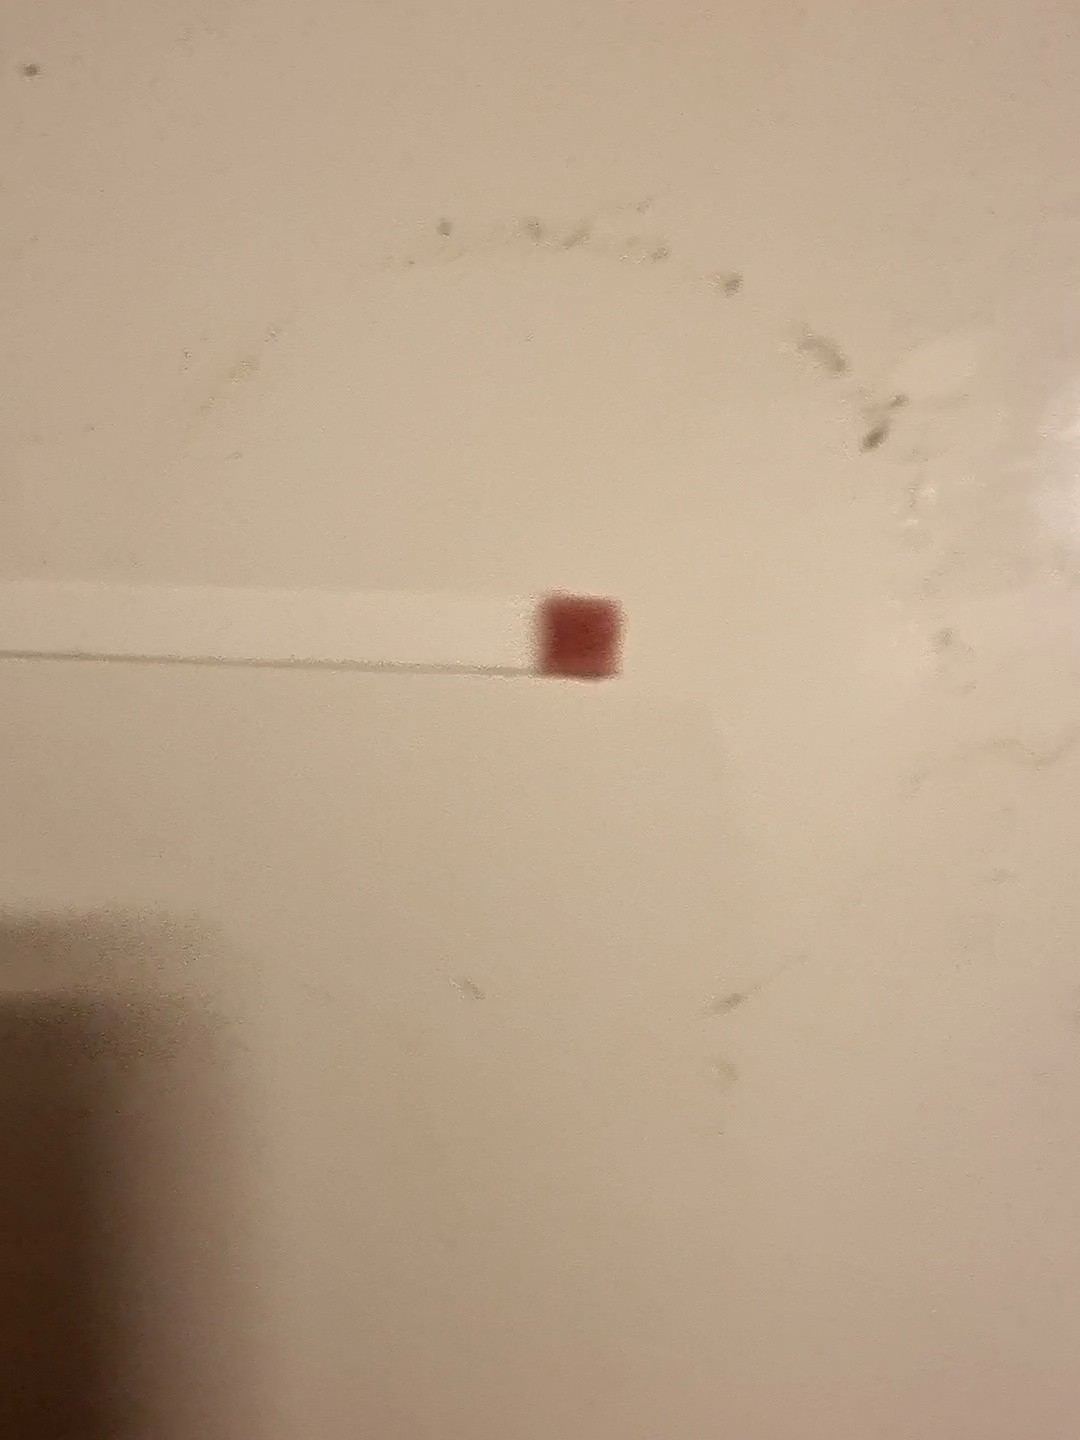keto-tip: (531, 588, 628, 681)
